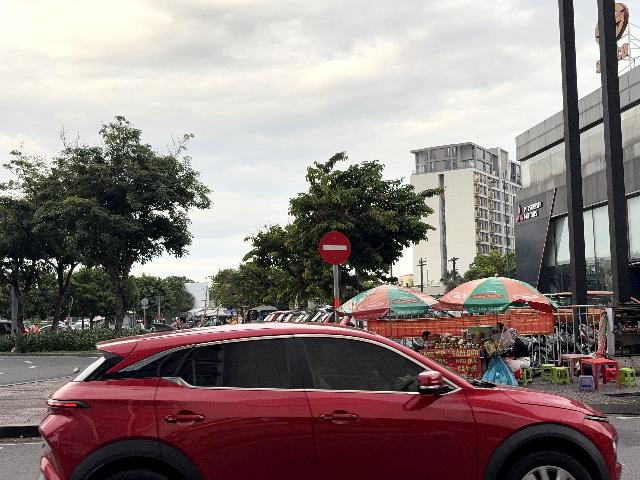cam-di-nguoc-chieu: (318, 230, 351, 265)
